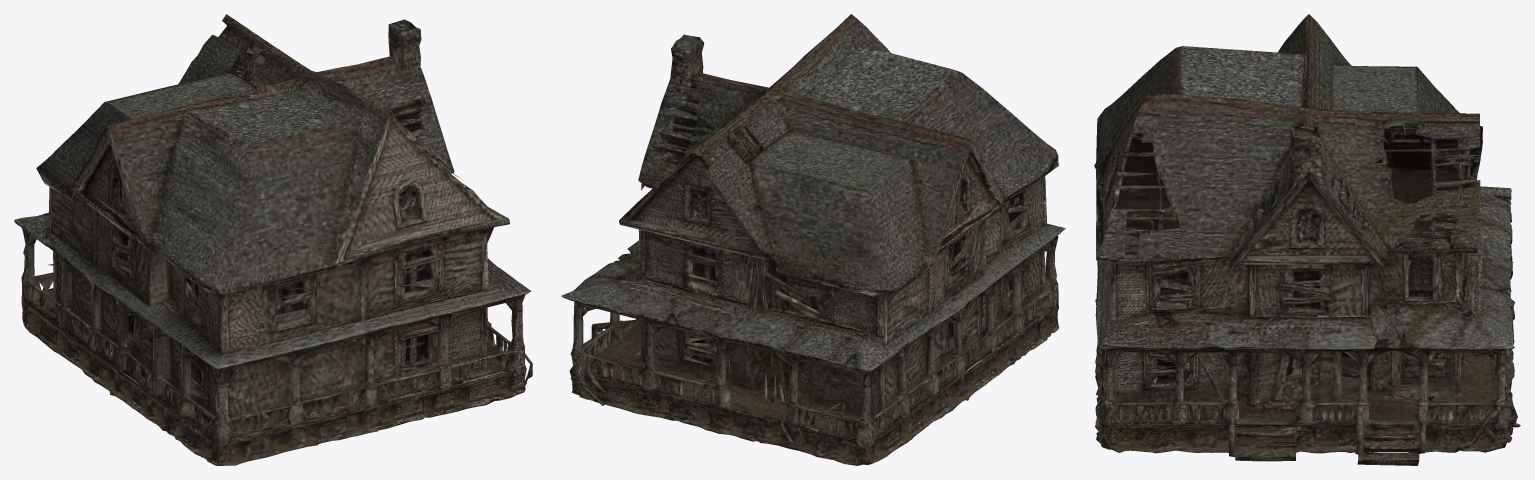
File: tripo_convert_7d18c390-3684-4ddc-8dd4-c9a19f0a781b.fbx
3 renders of one model, left to right at view 1: azimuth 30°, elevation 25°; view 2: azimuth 150°, elevation 25°; view 3: azimuth 270°, elevation 25°, orthographic. The views are drawn at different scales.
Parts seen in each view (by area): view 1: tripo_node_7d18c390; view 2: tripo_node_7d18c390; view 3: tripo_node_7d18c390.
Boxes of the visible parts, x1,y1,x2,y2 form: tripo_node_7d18c390: (14,14,532,465); tripo_node_7d18c390: (561,14,1065,465); tripo_node_7d18c390: (1094,14,1520,465).
Size of the model in its own units: 0.9432 by 0.7657 by 0.9626.
Materials: 1 (1 with a texture image).
